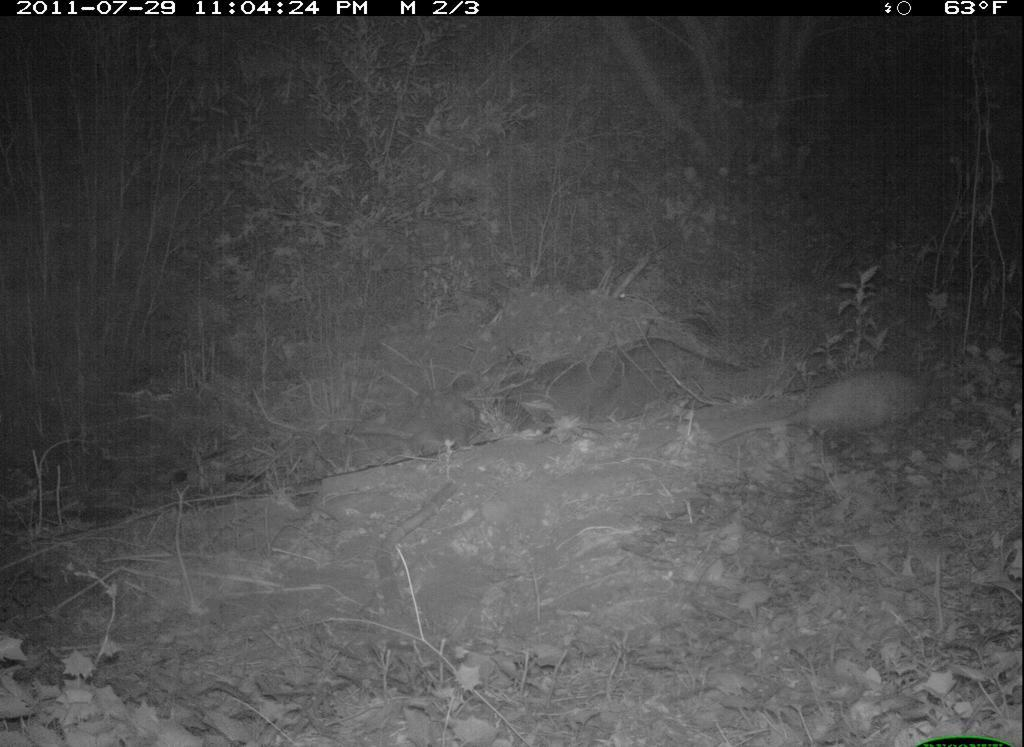opossum: (710, 368, 932, 460)
